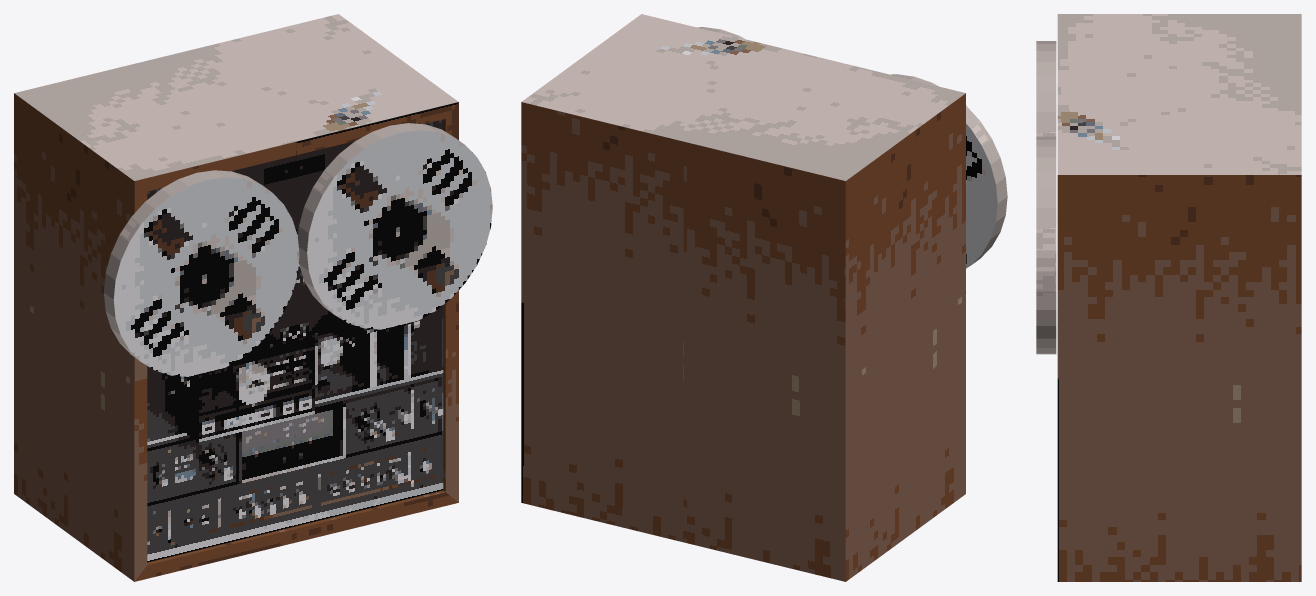
The model's file is tape_recorder.glb.
3 views of the same model, side by side, from view 1: azimuth 30°, elevation 25°; view 2: azimuth 150°, elevation 25°; view 3: azimuth 270°, elevation 25° (orthographic).
Parts seen in each view (by area): view 1: recorder, tape_1.001, tape_1; view 2: recorder, tape_1.001; view 3: recorder, tape_1, tape_1.001.
Boxes of the visible parts, x1,y1,x2,y2 form: recorder: [14, 14, 458, 581]; tape_1.001: [104, 170, 299, 376]; tape_1: [298, 123, 492, 329]; recorder: [521, 14, 965, 581]; tape_1.001: [891, 74, 1007, 268]; recorder: [1057, 14, 1301, 581]; tape_1: [1036, 136, 1056, 354]; tape_1.001: [1036, 41, 1056, 136].
Bounding box in the file's own units: 0.2589 × 0.2616 × 0.1546.
Materials: 2 (2 with a texture image).
